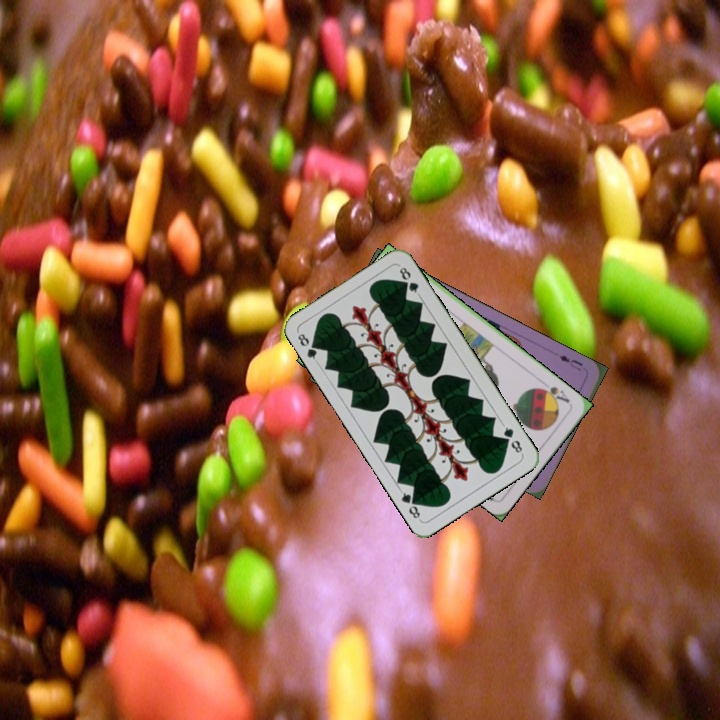EU: (555, 351, 586, 373)
G8: (293, 329, 322, 365), (498, 421, 525, 457)
SA: (535, 382, 573, 406)
